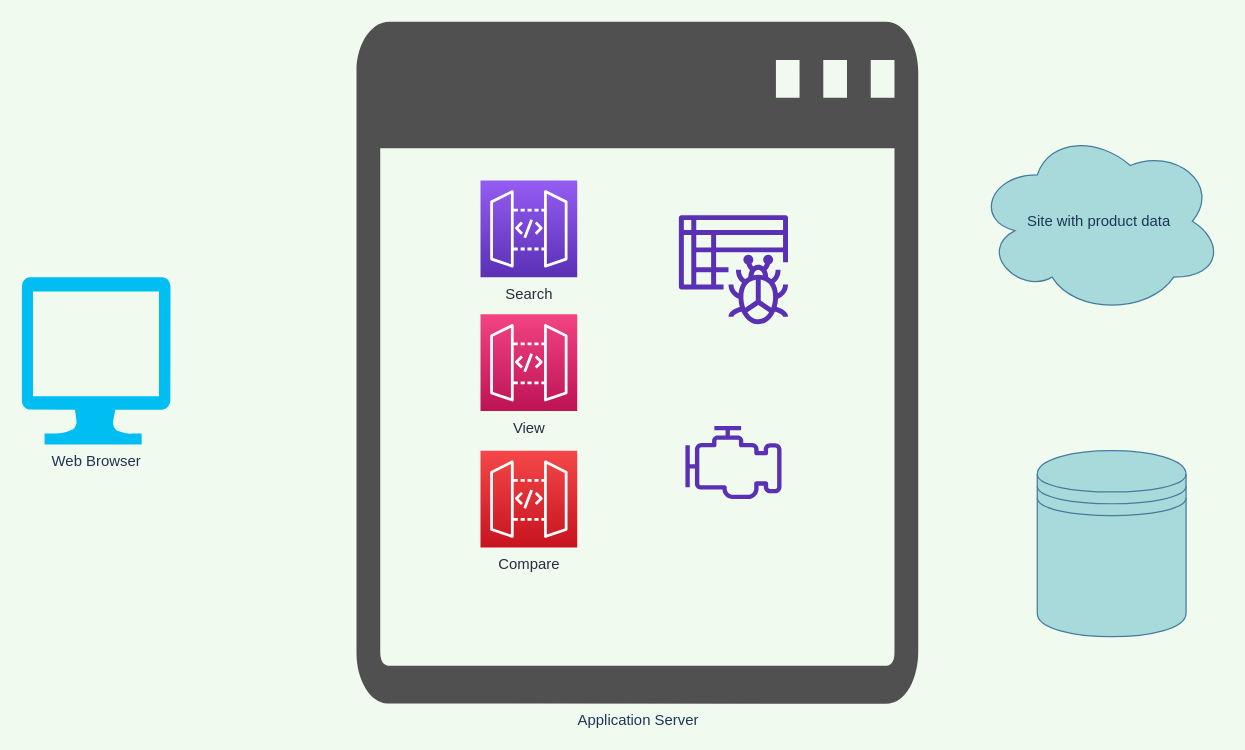
Image size: 1245x750. Some labels were removed from this diagram. Here are the shapes that lost their labels. From the top down, the centre of each, then its label:
At [732,269]: "Web Scrapper".
At [732,461]: "Comparison Engine".
At [1111,543]: "Database".
